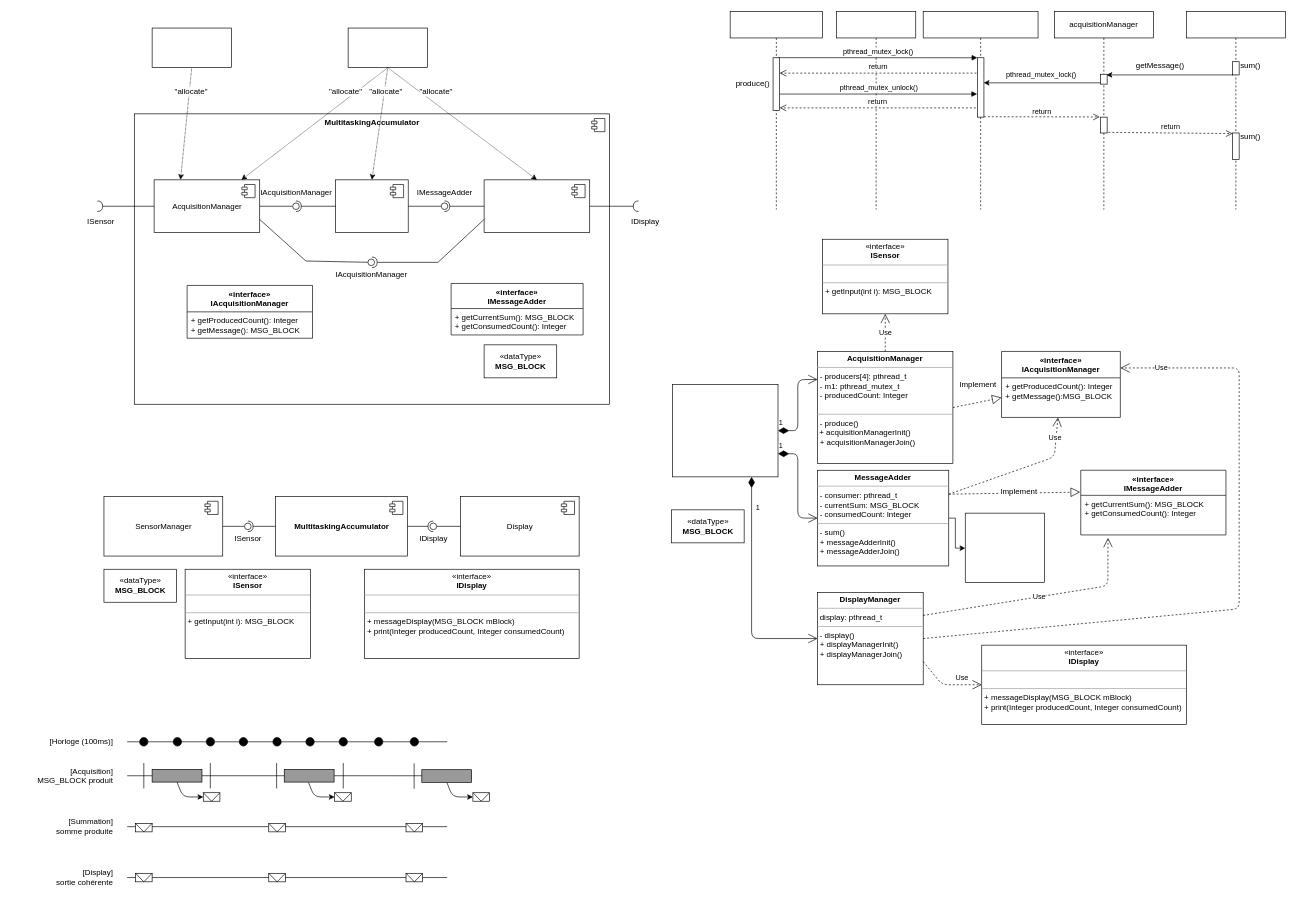
Image size: 1303x899. Some labels were removed from this diagram. Here are the shapes that lost their labels. From the top down, the box of each, then its label:
(151, 27, 231, 68): Exigence X
(347, 27, 427, 68): Exigence Y
(729, 11, 823, 210): producer1:pthread_t
(836, 11, 916, 210): producer2:pthread_t
(923, 11, 1038, 210): m1: pthread_mutex_t
(1186, 11, 1285, 210): consumer:pthread_t
(335, 179, 408, 233): MessageAdder
(483, 179, 590, 233): DisplayManager
(672, 384, 778, 477): MultitaskingAccumulator + main()
(965, 512, 1044, 582): Msg - messageAdd() - messageCheck()
